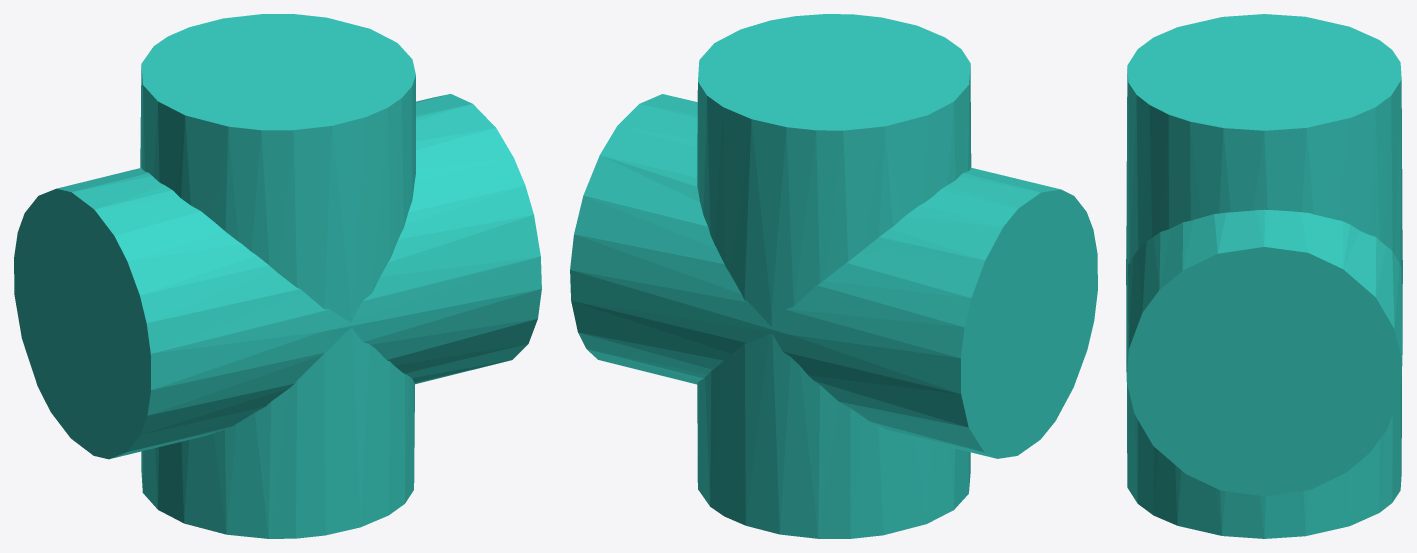
Rendered from ankle_link_dexter_collision.obj.
3 views of the same model, side by side, from view 1: azimuth 30°, elevation 25°; view 2: azimuth 150°, elevation 25°; view 3: azimuth 270°, elevation 25° (orthographic).
Visible parts, largest first — view 1: Body2, Body1; view 2: Body2, Body1; view 3: Body1, Body2.
Part boxes in pixels (left/top/right/bottom): Body2: left=14, top=94, right=541, bottom=459; Body1: left=140, top=14, right=415, bottom=538; Body2: left=570, top=94, right=1097, bottom=458; Body1: left=697, top=14, right=971, bottom=538; Body1: left=1126, top=14, right=1402, bottom=538; Body2: left=1126, top=209, right=1402, bottom=496.
Bounding box in the file's own units: 13 × 13 × 7.99.
